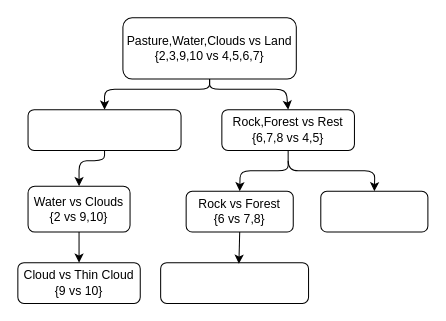
The diagram is 446 pixels wide and 321 high, and some of its shapes have lost their labels. The shapes that lost their labels are listed below. From the top down, each one's centre as x and y in pixels, then its label:
point (104, 129): Pasture vs Wature,Clouds {3 vs 2,9,10}
point (374, 211): Pasture vs City {4 vs 5}
point (234, 282): Thin Forest vs Tick Forest {7 vs 8}
